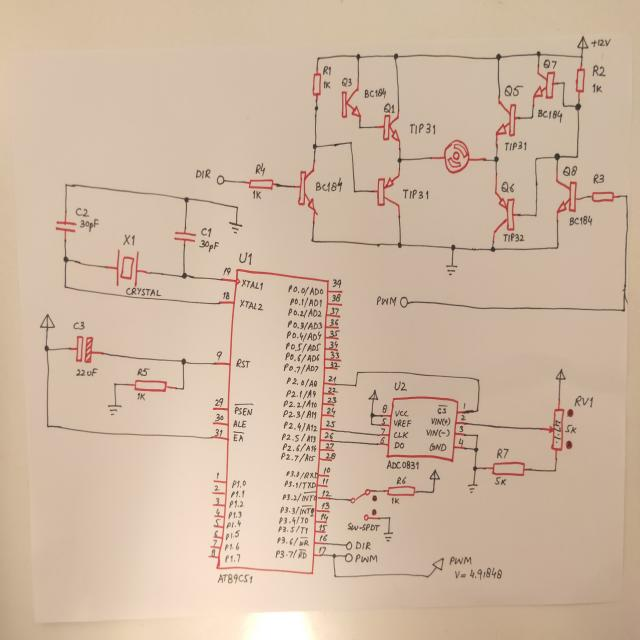capacitor: (74, 335, 94, 364), (173, 228, 197, 245), (55, 220, 77, 234)
ground: (106, 403, 122, 417), (228, 222, 244, 234), (445, 264, 458, 276), (467, 483, 478, 494), (382, 532, 394, 542)
junction: (574, 101, 582, 112), (180, 271, 188, 281), (396, 240, 404, 250), (62, 254, 69, 264), (554, 152, 561, 162), (392, 52, 399, 61), (495, 52, 502, 61), (355, 52, 362, 61), (180, 357, 187, 366), (493, 154, 499, 164), (183, 196, 190, 204), (63, 181, 69, 190), (450, 244, 456, 252), (490, 245, 496, 253), (312, 142, 318, 150), (45, 422, 51, 430), (533, 155, 539, 163), (621, 306, 627, 314), (475, 376, 481, 384), (44, 344, 50, 352), (574, 152, 580, 160), (112, 381, 118, 388), (331, 552, 337, 559), (315, 55, 321, 62), (310, 237, 316, 244), (554, 243, 560, 250), (180, 385, 186, 392), (397, 156, 402, 164), (63, 283, 68, 291), (624, 192, 629, 200), (473, 447, 479, 453), (472, 465, 477, 472), (536, 51, 541, 58), (553, 467, 558, 474), (533, 212, 538, 219), (353, 382, 358, 389), (352, 188, 357, 194), (529, 114, 534, 120), (348, 140, 353, 146), (355, 369, 360, 375), (370, 412, 375, 418), (562, 80, 566, 86), (333, 573, 337, 579), (358, 124, 362, 130), (426, 574, 430, 580), (475, 408, 479, 413), (474, 433, 478, 438), (235, 205, 239, 210), (431, 490, 436, 494), (580, 54, 584, 59), (387, 516, 391, 520), (562, 104, 566, 108), (370, 422, 373, 426)
resistor: (546, 408, 564, 453), (491, 461, 525, 477), (134, 378, 168, 392), (386, 484, 416, 496), (248, 178, 274, 191), (575, 66, 586, 93), (591, 191, 614, 203), (312, 72, 322, 98)
source: (40, 313, 56, 329), (577, 34, 589, 50), (429, 468, 440, 481), (555, 368, 566, 381), (368, 389, 379, 401)
switch: (350, 488, 371, 521)
terminal: (432, 557, 444, 571), (216, 174, 225, 186), (399, 296, 408, 308), (345, 552, 353, 562), (346, 540, 352, 550)
text: (454, 566, 502, 580), (315, 176, 343, 193), (402, 186, 430, 202), (217, 572, 253, 584), (288, 284, 324, 296), (126, 286, 162, 298), (283, 363, 319, 375), (280, 504, 315, 516), (537, 108, 562, 124), (386, 459, 419, 471), (286, 331, 322, 342), (408, 122, 436, 136), (282, 491, 317, 502), (286, 342, 321, 353), (285, 352, 320, 363), (283, 421, 318, 432), (282, 409, 316, 420), (287, 320, 323, 330), (280, 452, 316, 462), (275, 548, 307, 559), (290, 297, 322, 308), (363, 86, 388, 100), (281, 433, 316, 443), (282, 442, 317, 452), (286, 377, 317, 388), (347, 522, 381, 532), (288, 308, 322, 318), (283, 399, 317, 409), (568, 214, 594, 227), (286, 389, 316, 400), (277, 536, 309, 546), (79, 218, 100, 233), (239, 299, 264, 311), (503, 140, 528, 152), (199, 238, 219, 253), (375, 294, 398, 307), (503, 84, 524, 98), (279, 516, 308, 526), (284, 480, 316, 489), (286, 470, 318, 479), (574, 394, 593, 409), (278, 525, 308, 534), (241, 279, 263, 291), (234, 403, 254, 416), (502, 232, 525, 243), (449, 555, 472, 566), (354, 553, 378, 563), (426, 428, 450, 438), (553, 419, 562, 445), (75, 367, 98, 377), (195, 168, 212, 180), (591, 38, 611, 48), (122, 233, 136, 247), (592, 64, 606, 78), (562, 165, 578, 177), (431, 416, 450, 426), (393, 418, 412, 428), (239, 252, 252, 266), (500, 181, 514, 194), (429, 442, 447, 452), (543, 58, 557, 70), (226, 529, 240, 541), (75, 207, 90, 218), (255, 162, 266, 177), (355, 540, 371, 550), (225, 553, 241, 563), (224, 542, 240, 551), (496, 447, 508, 459), (340, 76, 352, 88), (383, 102, 395, 114), (394, 381, 407, 392), (236, 358, 250, 368), (231, 479, 246, 488), (226, 520, 241, 529), (229, 499, 244, 508), (233, 430, 244, 442), (436, 404, 448, 415), (593, 173, 604, 185), (564, 424, 577, 434), (137, 367, 150, 377), (494, 476, 507, 486), (393, 431, 409, 439), (201, 227, 212, 238), (230, 490, 245, 498), (322, 64, 332, 76), (591, 83, 603, 93), (228, 511, 242, 519), (233, 420, 247, 428), (395, 410, 409, 418), (73, 321, 85, 330), (252, 190, 262, 200), (222, 290, 231, 300), (332, 278, 341, 288), (320, 512, 329, 522), (396, 476, 406, 485), (136, 392, 146, 401), (214, 413, 224, 422), (214, 397, 223, 407), (329, 330, 340, 338), (325, 452, 336, 460), (214, 428, 223, 437), (318, 546, 326, 556), (331, 294, 341, 302), (329, 318, 339, 326), (328, 386, 338, 394), (327, 396, 337, 404), (326, 407, 336, 415), (326, 420, 336, 428), (322, 490, 332, 498), (223, 266, 231, 275), (323, 80, 331, 89), (330, 308, 339, 316), (329, 341, 338, 349), (330, 351, 339, 359), (328, 375, 337, 383), (319, 534, 328, 542), (391, 496, 400, 504), (324, 432, 334, 439), (318, 524, 328, 531), (394, 442, 404, 449), (326, 442, 334, 450), (214, 518, 221, 527), (321, 502, 330, 509), (216, 351, 222, 361), (458, 437, 464, 447), (382, 404, 388, 414), (330, 362, 340, 368), (323, 467, 331, 474), (322, 478, 329, 485), (460, 414, 467, 421), (381, 417, 387, 425), (458, 425, 464, 433), (380, 436, 385, 444), (215, 497, 220, 505), (380, 427, 385, 435), (214, 485, 220, 491), (216, 508, 220, 516), (213, 539, 217, 547), (212, 549, 216, 557), (462, 402, 466, 410), (216, 472, 220, 479), (214, 530, 218, 537)
transistor: (296, 167, 320, 216), (493, 192, 516, 234), (376, 175, 401, 209), (555, 178, 578, 214), (496, 100, 516, 138), (532, 70, 556, 100), (341, 86, 362, 120), (382, 114, 401, 142)
